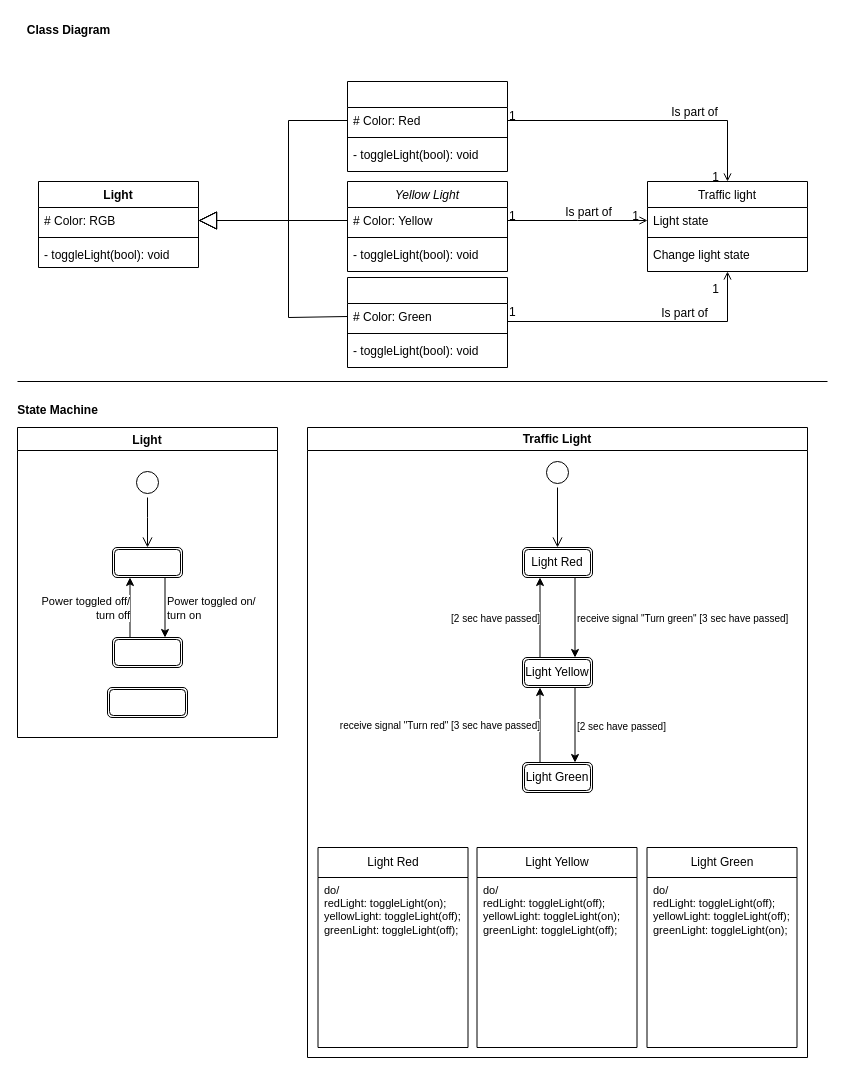
Image size: 845x1075. Some labels were removed from this diagram. The box of each missing label's shape, as (x1, y1, x2, y2) in pixels:
Color: (106, 686, 188, 718)
Green Light: (346, 276, 508, 368)
Off: (112, 546, 182, 578)
On: (112, 636, 182, 668)
Red Light: (346, 80, 508, 172)
